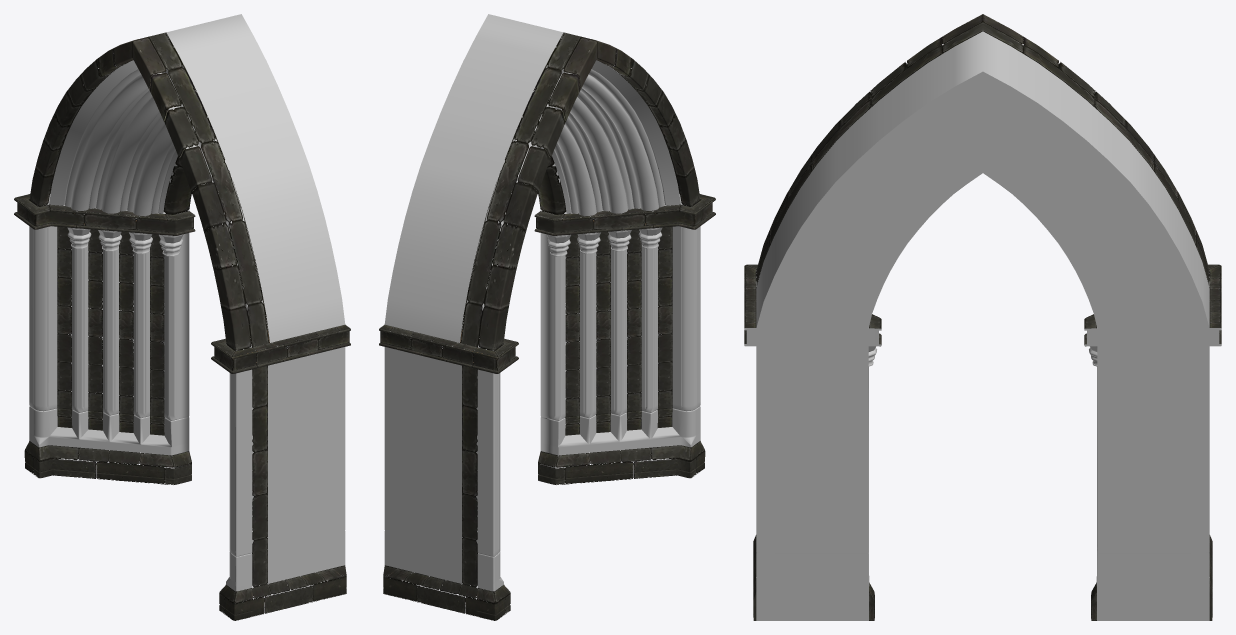
The picture shows the model from 3 angles, left to right: view 1: azimuth 30°, elevation 25°; view 2: azimuth 150°, elevation 25°; view 3: azimuth 270°, elevation 25°; orthographic projection. The views are drawn at different scales.
Parts seen in each view (by area): view 1: SM_Greathall_Doorway_02_LOD0; view 2: SM_Greathall_Doorway_02_LOD0; view 3: SM_Greathall_Doorway_02_LOD0.
Boxes of the visible parts, x1,y1,x2,y2 form: SM_Greathall_Doorway_02_LOD0: (14, 14, 350, 620); SM_Greathall_Doorway_02_LOD0: (379, 14, 715, 620); SM_Greathall_Doorway_02_LOD0: (744, 14, 1221, 620).
Size of the model in its own units: 2.56 by 10.33 by 8.13.
